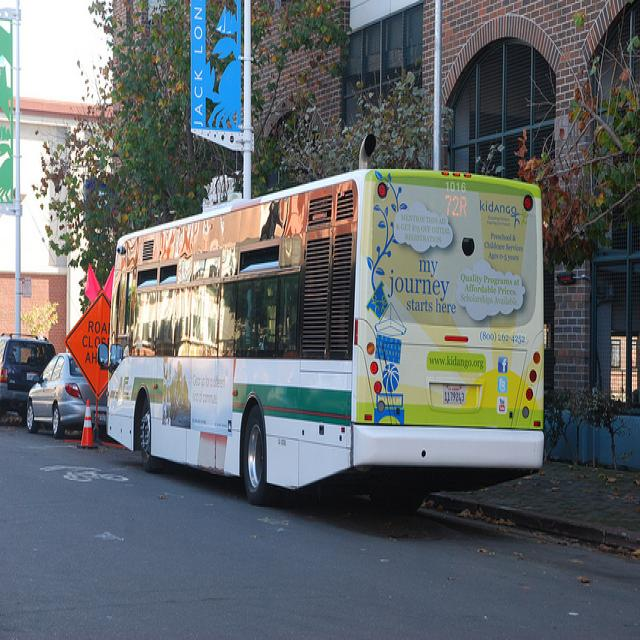Vehicle: (105, 168, 546, 501), (25, 352, 108, 440), (0, 334, 57, 420)
